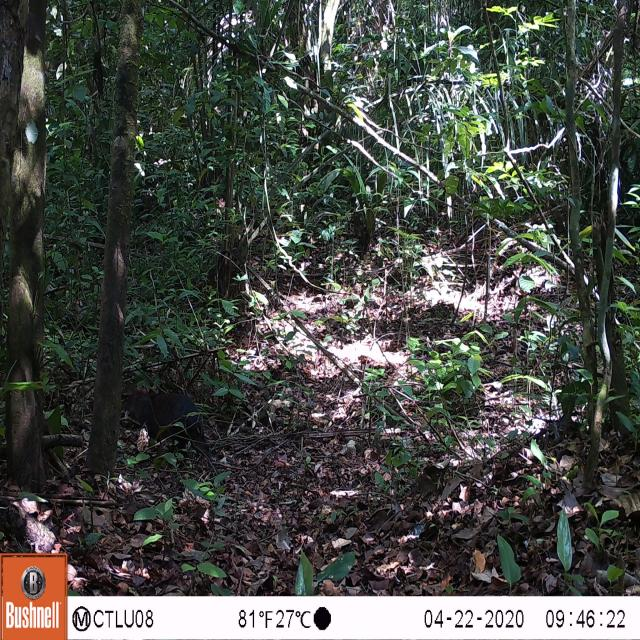Black Agouti: (113, 375, 222, 472)
